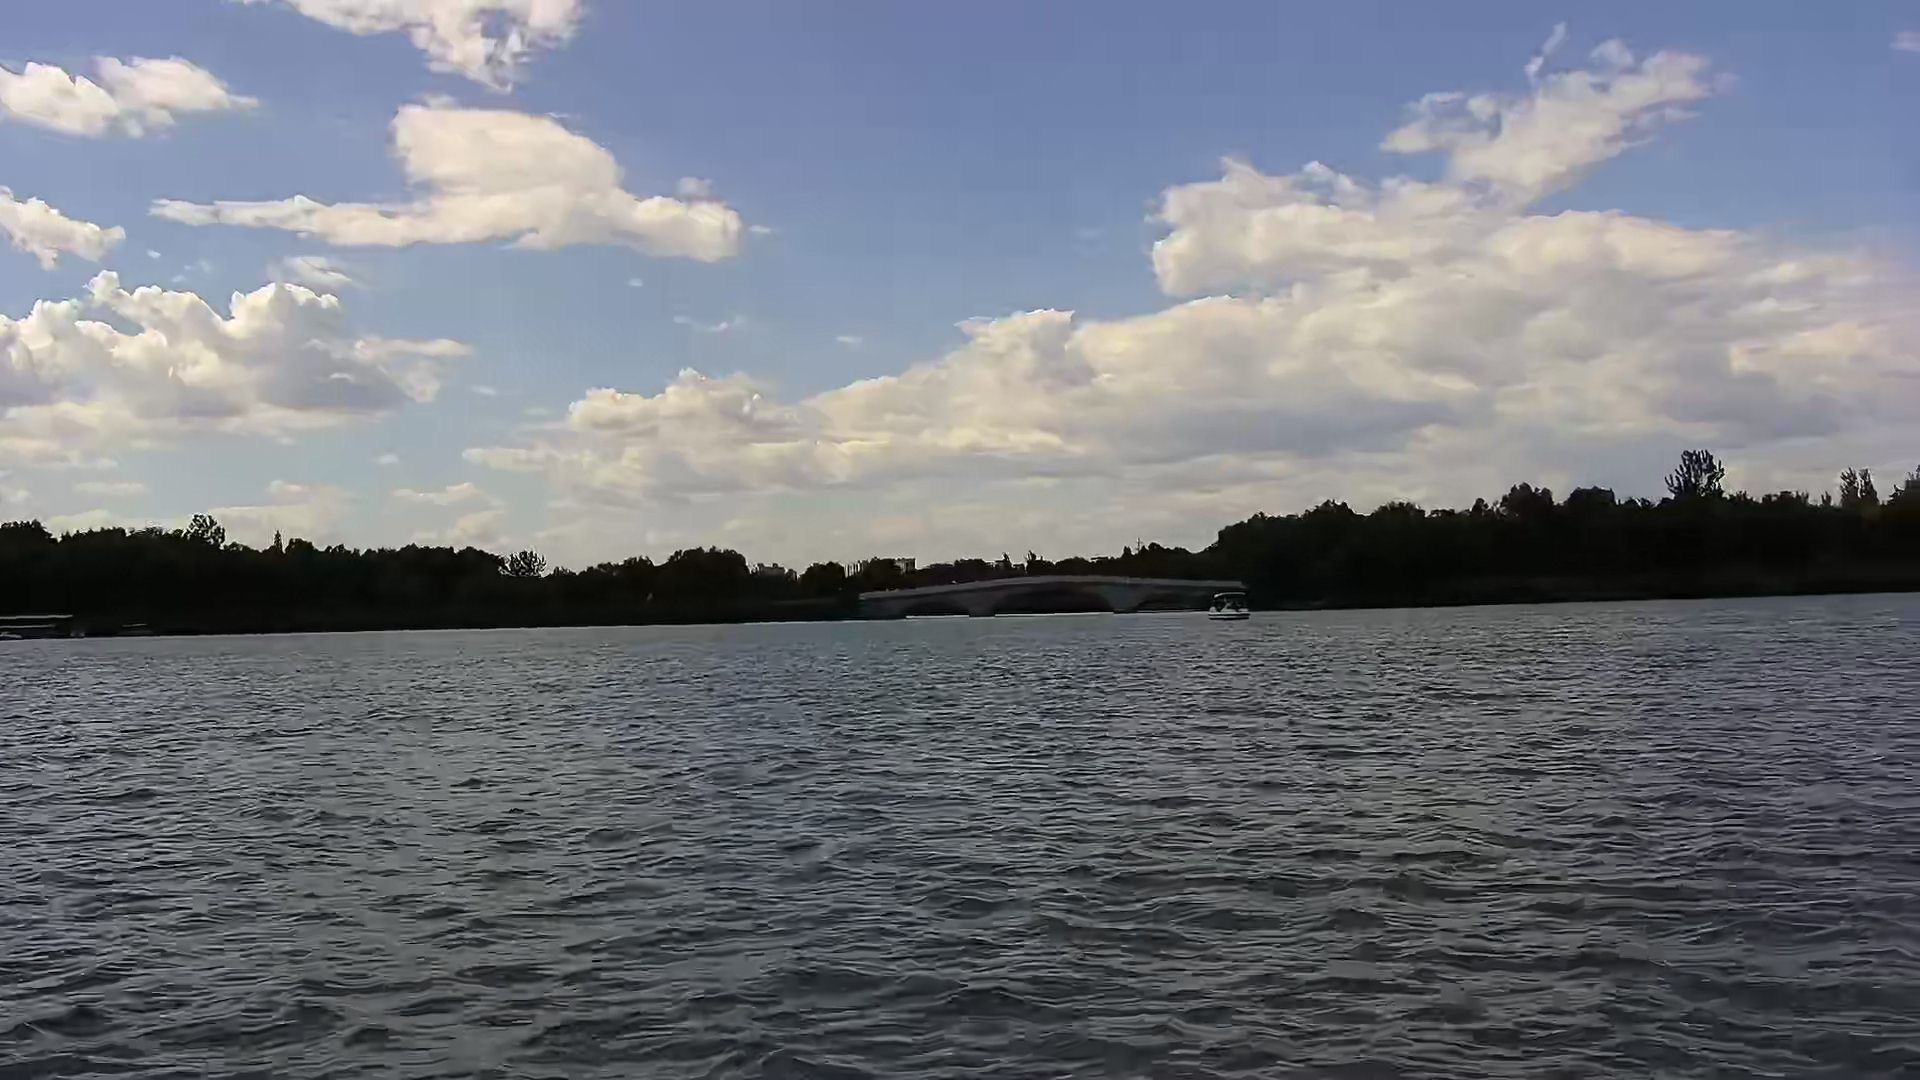boat: (1204, 587, 1247, 620)
bridge: (858, 568, 1254, 616)
harbor: (4, 609, 76, 632)
